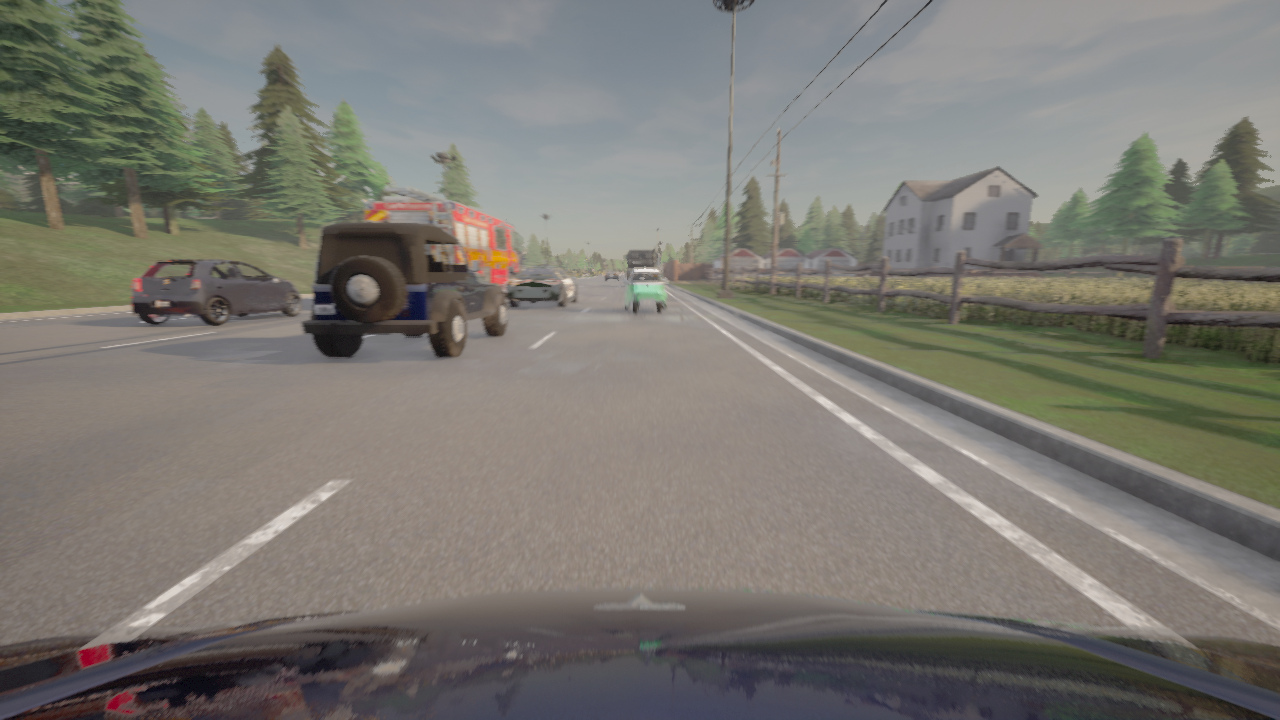cyclist: (0, 588, 1279, 719), (302, 221, 508, 357), (364, 186, 523, 299), (132, 260, 301, 324), (505, 263, 578, 307), (622, 267, 667, 313), (625, 248, 659, 281), (605, 270, 620, 281)
